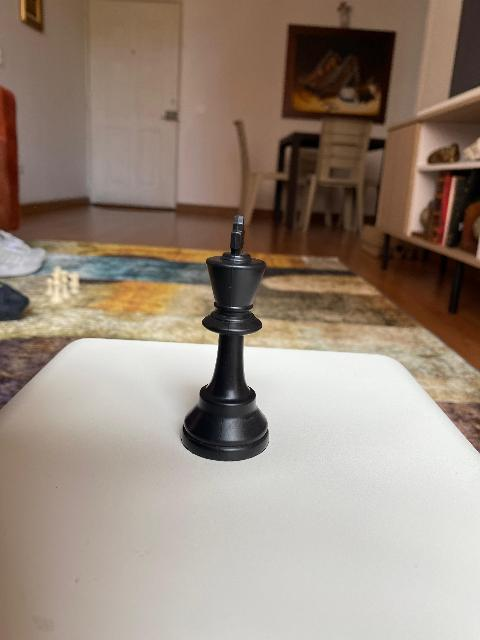black-king: (180, 213, 270, 461)
